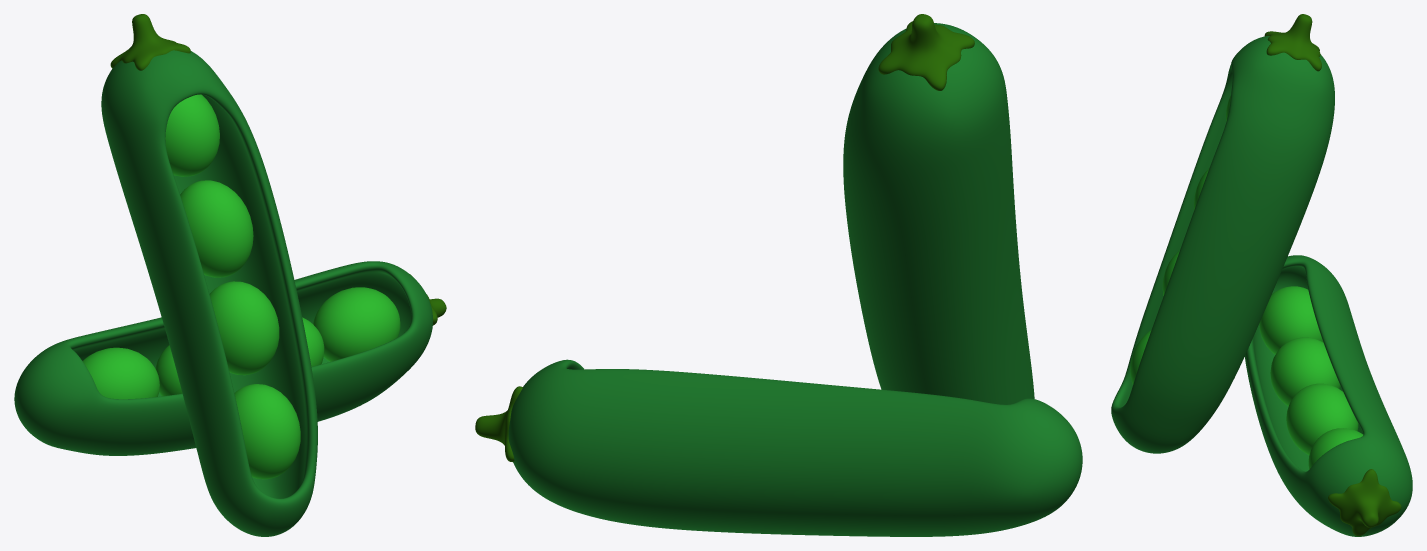
File: peas.fbx
3 views of the same model, side by side, from view 1: azimuth 30°, elevation 25°; view 2: azimuth 150°, elevation 25°; view 3: azimuth 270°, elevation 25° (orthographic). The views are drawn at different scales.
Parts seen in each view (by area): view 1: Cube, Cube.002, Sphere.001, Sphere.002, Sphere.003, Sphere.004, Sphere, Sphere.007, Cube.003, Sphere.006, Sphere.005; view 2: Cube.002, Cube, Cube.003, Cube.006; view 3: Cube, Cube.002, Sphere.005, Sphere.006, Sphere.007, Cube.006, Cube.003, Sphere.004, Sphere.003.
Part boxes in pixels (x1,y1,x2,y2): Cube: (101, 50, 317, 536); Cube.002: (14, 261, 432, 455); Sphere.001: (180, 180, 253, 277); Sphere.002: (209, 281, 279, 375); Sphere.003: (234, 384, 300, 479); Sphere.004: (313, 287, 400, 361); Sphere: (165, 94, 219, 176); Sphere.007: (82, 347, 159, 399); Cube.003: (110, 14, 190, 70); Sphere.006: (155, 345, 182, 396); Sphere.005: (302, 317, 324, 366); Cube.002: (508, 359, 1082, 536); Cube: (843, 23, 1034, 404); Cube.003: (878, 14, 974, 90); Cube.006: (475, 386, 522, 461); Cube: (1111, 36, 1334, 453); Cube.002: (1244, 255, 1412, 536); Sphere.005: (1286, 383, 1358, 454); Sphere.006: (1270, 337, 1340, 406); Sphere.007: (1259, 286, 1323, 354); Cube.006: (1328, 469, 1401, 536); Cube.003: (1264, 14, 1321, 71); Sphere.004: (1308, 428, 1363, 469); Sphere.003: (1130, 330, 1151, 384).
Bounding box in the file's own units: 199 × 191 × 125.
